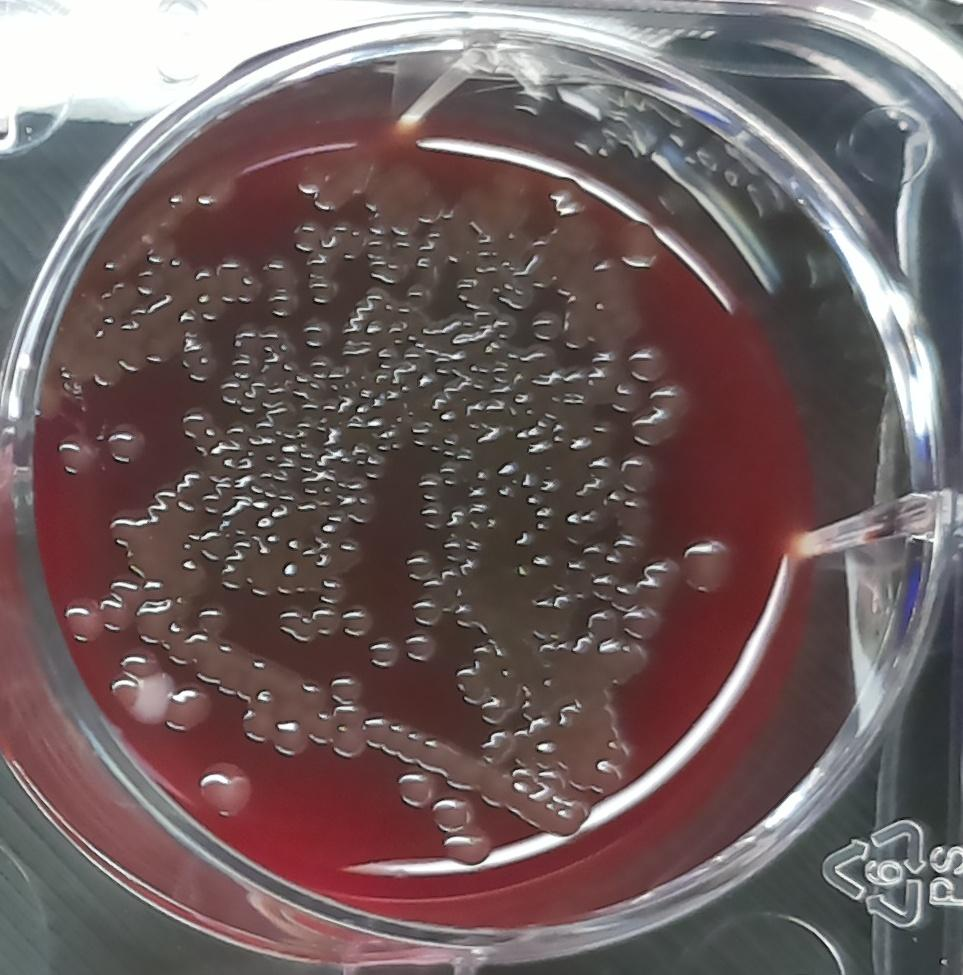vangil: (360, 713, 484, 804), (679, 528, 738, 594)
